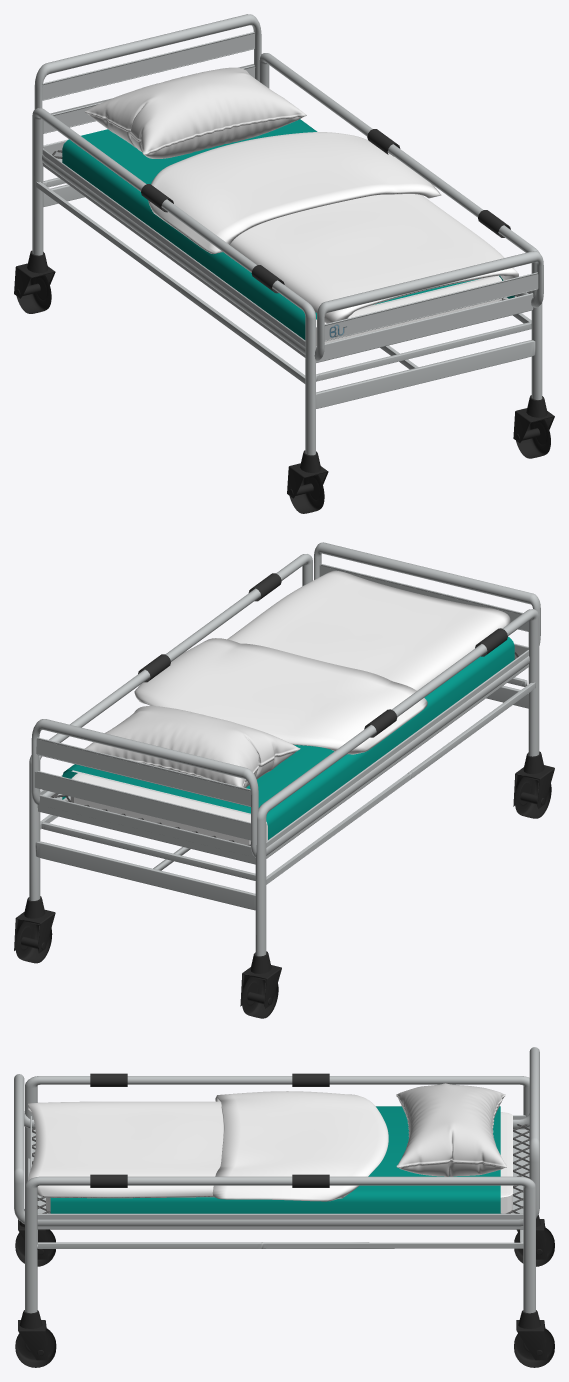
Rendered from 1761586019288-untitled.00000glb.glb.
3 views of the same model, one above another, from view 1: azimuth 30°, elevation 25°; view 2: azimuth 150°, elevation 25°; view 3: azimuth 270°, elevation 25° (orthographic). The views are drawn at different scales.
Visible parts, largest first — view 1: BED COVER, Cube.010, Plane.001, Plane, Plane.007, Plane.002, Plane.004, Cube.002, Plane.005, Cube.005, Circle.001, Circle.003 (+4 smaller); view 2: BED COVER, Plane.002, Plane.001, Plane.007, Plane, Cube.010, Plane.005, Cube.003, Cube.001, Cube.005, Circle.003, Circle.001 (+4 smaller); view 3: BED COVER, Plane.001, Plane.007, Cube.010, Plane, Plane.002, Cube.006, Plane.006, Circle, Circle.002, Cube.001, Circle.001 (+2 smaller).
Part boxes in pixels (<box>): BED COVER: <box>148,132,518,323</box>; Cube.010: <box>84,67,306,158</box>; Plane.001: <box>32,53,542,455</box>; Plane: <box>34,14,543,361</box>; Plane.007: <box>62,119,514,339</box>; Plane.002: <box>42,64,533,362</box>; Plane.004: <box>43,65,538,341</box>; Cube.002: <box>316,340,535,408</box>; Plane.005: <box>42,32,254,100</box>; Cube.005: <box>36,182,305,383</box>; Circle.001: <box>14,250,55,313</box>; Circle.003: <box>287,450,328,513</box>; BED COVER: <box>134,570,510,754</box>; Plane.002: <box>34,643,528,864</box>; Plane.001: <box>29,554,539,956</box>; Plane.007: <box>62,636,514,839</box>; Plane: <box>31,542,540,857</box>; Cube.010: <box>85,706,300,787</box>; Plane.005: <box>36,737,250,806</box>; Cube.003: <box>35,841,255,910</box>; Cube.001: <box>70,773,267,844</box>; Cube.005: <box>266,682,535,884</box>; Circle.003: <box>513,751,554,818</box>; Circle.001: <box>240,951,281,1018</box>; BED COVER: <box>28,1091,388,1201</box>; Plane.001: <box>25,1076,535,1313</box>; Plane.007: <box>50,1106,500,1213</box>; Cube.010: <box>396,1083,506,1176</box>; Plane: <box>14,1047,539,1226</box>; Plane.002: <box>30,1115,529,1229</box>; Cube.006: <box>37,1242,523,1248</box>; Plane.006: <box>90,1073,329,1187</box>; Circle: <box>514,1310,554,1367</box>; Circle.002: <box>15,1310,56,1367</box>; Cube.001: <box>46,1112,512,1213</box>; Circle.001: <box>514,1215,554,1266</box>.
Size of the model in its own units: 3.13 by 2.88 by 6.34.
8 materials, 3 textured.
